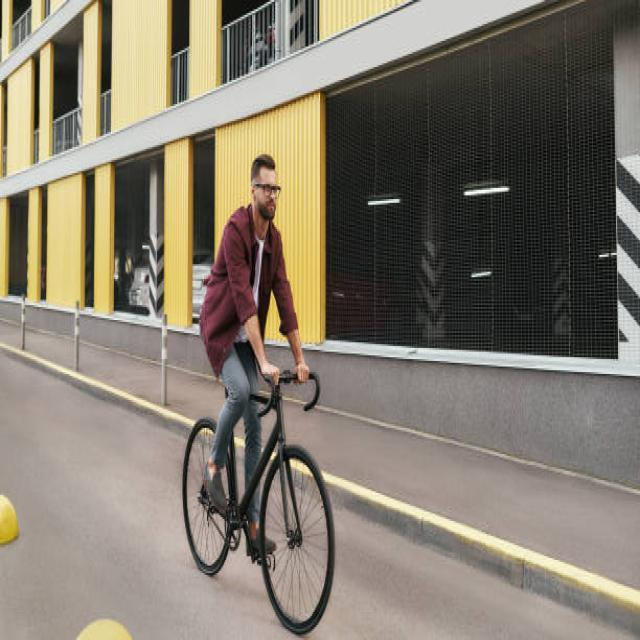bicycle: (182, 153, 334, 633)
